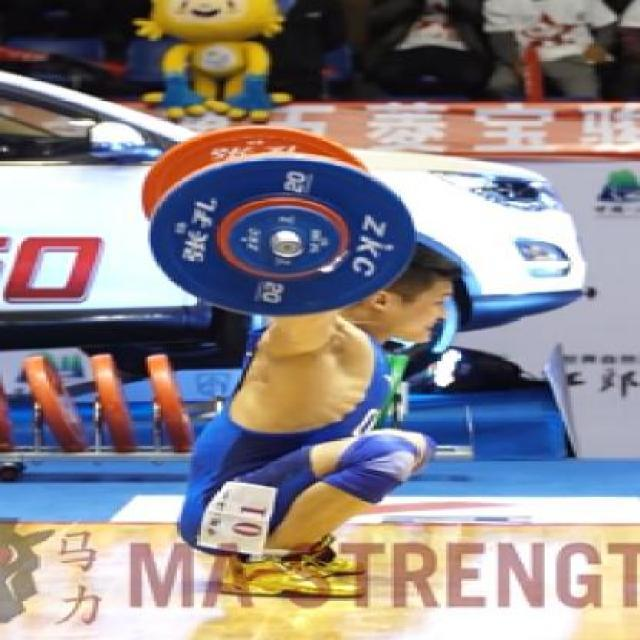Barbell: (270, 236, 308, 259)
